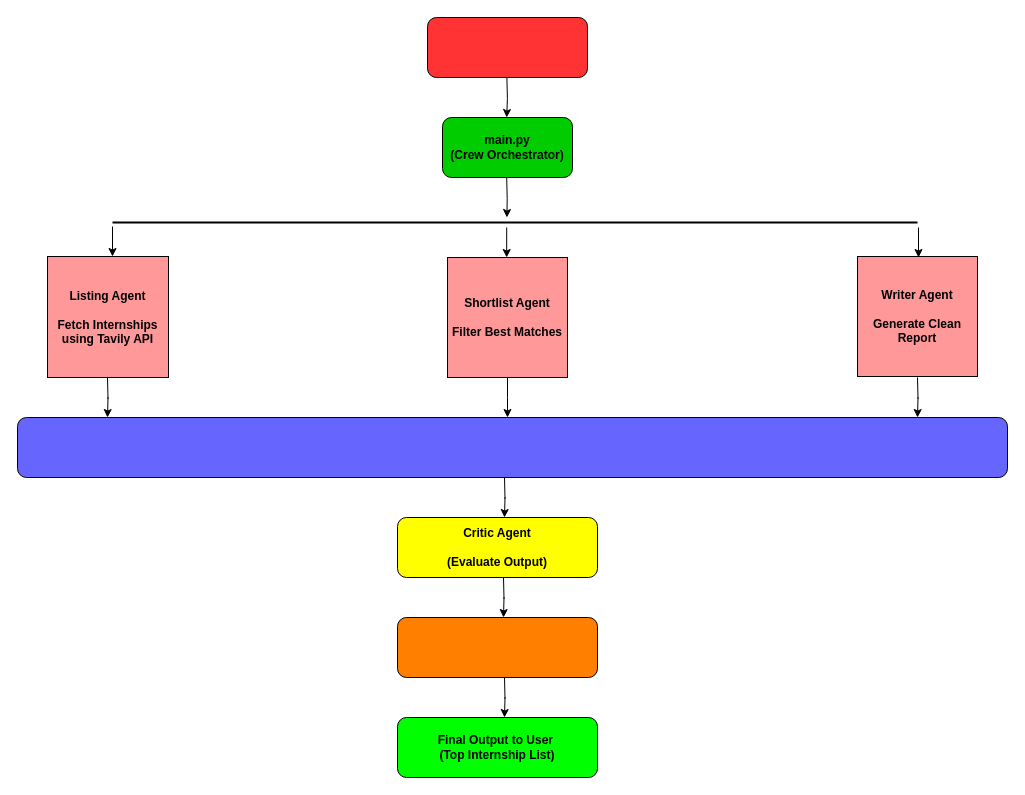
Image size: 1025x795. Some labels were removed from this diagram. The centre of each missing label's shape, as x and y in pixels:
"Reviser Agent (Improve Final Output)" goes at (497,647).
"Tavily Search Tool (Real-time Internship Listings from Web APIs)" goes at (512,447).
"User Input (Role, Skills, Domain)" goes at (507,47).
